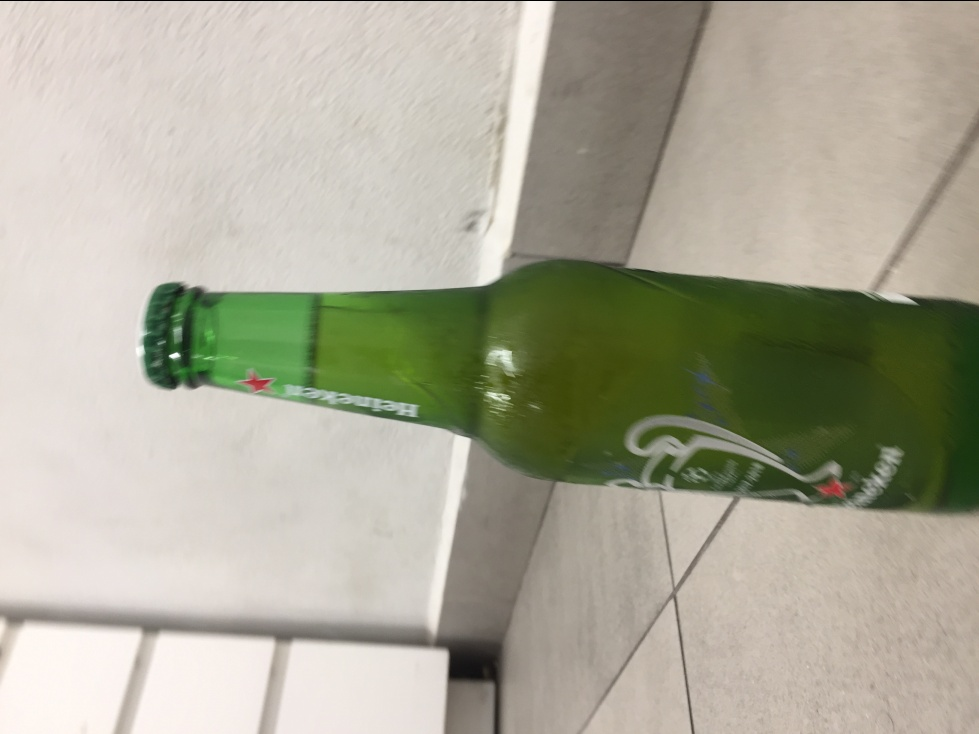heineken: (141, 254, 979, 517)
